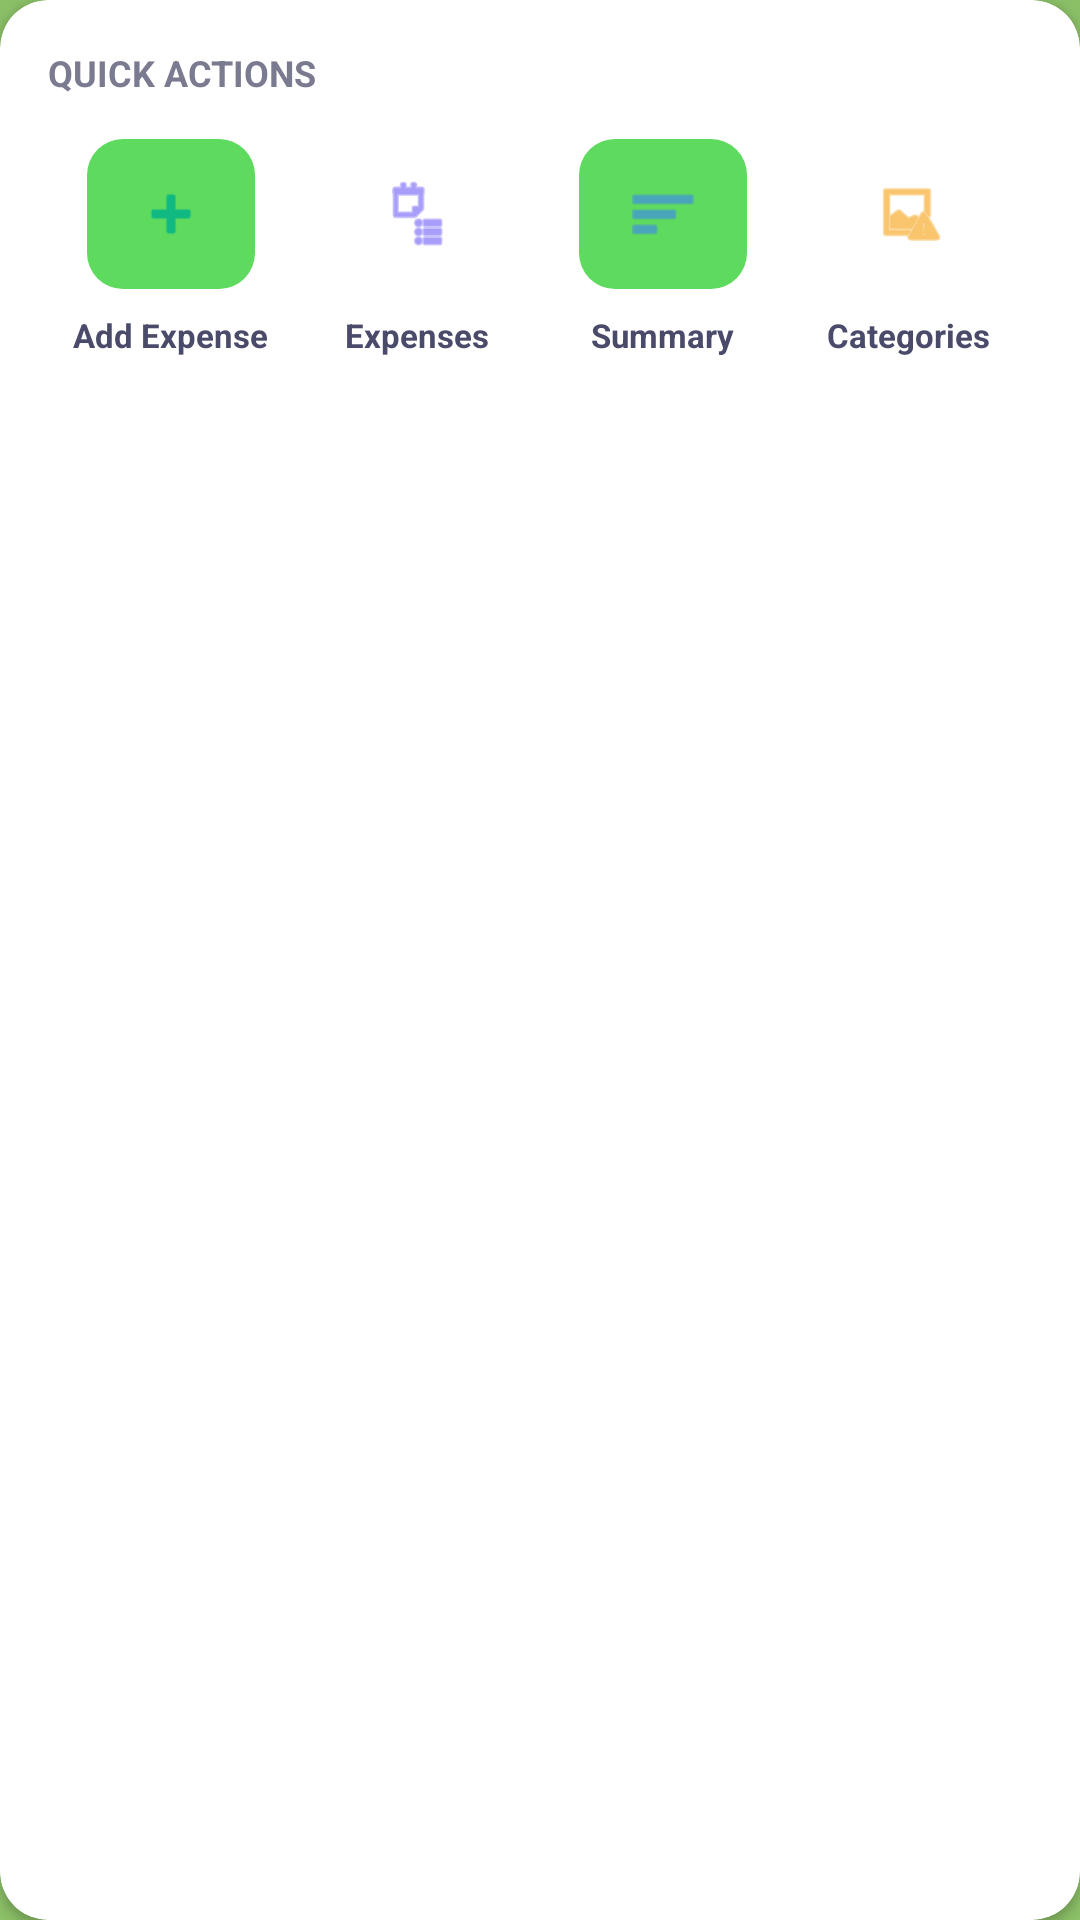

Where icons sit on this 1080x1920 app screen, as bbox=(x1, y1, x2, y2):
agenda: bbox=(392, 182, 443, 246)
